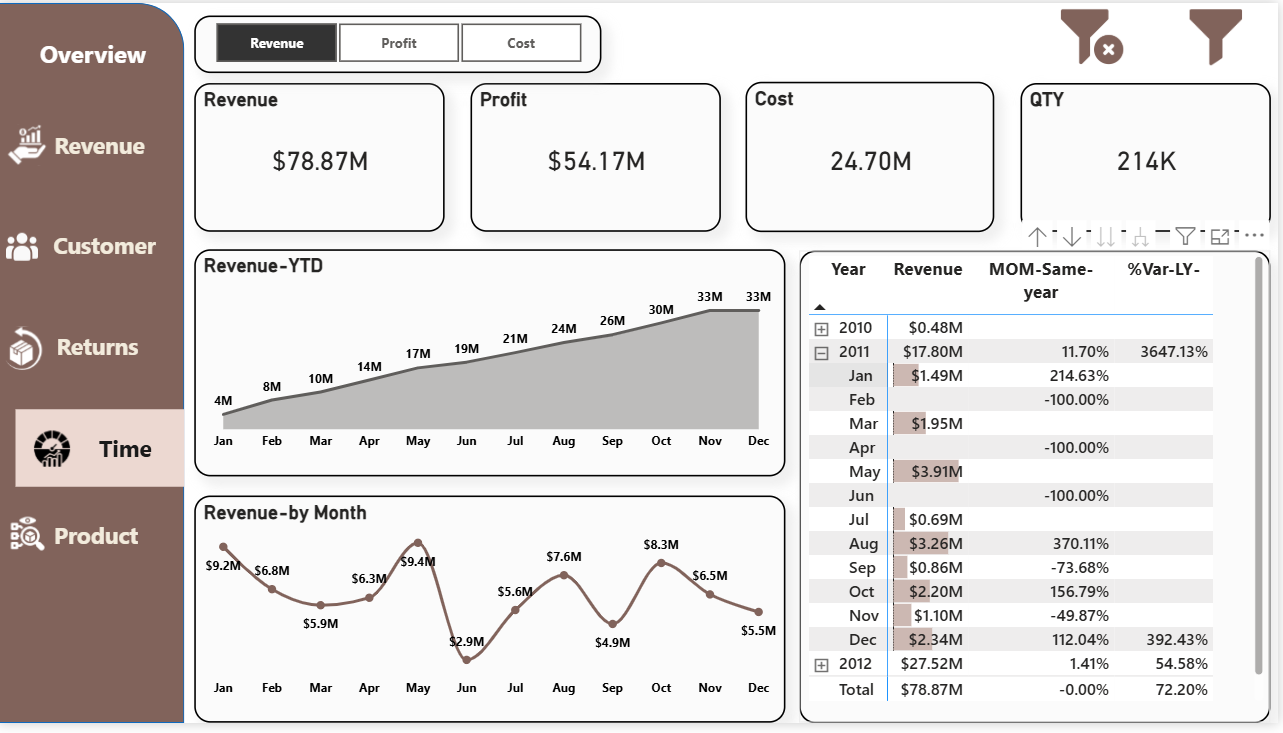

What the dashboard file says about the page in this screenshot:
{"tool":"powerbi","page":{"name":"Time Analysis","canvas":[1280,720],"ordinal":4},"visuals":[{"type":"card","title":"Cost","fields":{"Values":["Calculation.Cost"]},"box":[747.5,78.8,248.8,150],"z":0},{"type":"card","title":"Profit","fields":{"Values":["Calculation.Profit"]},"box":[472.5,80,250,148.8],"z":1000},{"type":"card","title":"Revenue","fields":{"Values":["Calculation.Revenue"]},"box":[196.2,80,250,148.8],"z":2000},{"type":"card","fields":{"Values":["Calculation.Var LY Rev Card"]},"box":[196.2,177.5,192.5,52.5],"z":3000},{"type":"card","fields":{"Values":["Calculation.Arrow Rev"]},"box":[402.5,181.2,43.8,50],"z":4000},{"type":"lineChart","fields":{"Y":["Calculation.Revenue"],"Category":["Calender.Month_Name"]},"box":[196.2,492.5,591.2,227.5],"z":5000},{"type":"lineChart","fields":{"Category":["Calender.Month_Name"],"Y":["Time Analysis.YTD"]},"box":[196.2,246.2,591.2,227.5],"z":6000},{"type":"card","fields":{"Values":["Calculation.Var LY Profit Card"]},"box":[481.2,178.8,192.5,47.5],"z":7000},{"type":"card","fields":{"Values":["Calculation.Arrow Profit"]},"box":[673.8,178.8,53.8,50],"z":8000},{"type":"card","fields":{"Values":["Calculation.Var Ly Cost Card"]},"box":[760,178.8,183.8,50],"z":9000},{"type":"card","fields":{"Values":["Calculation.Arrow Cost"]},"box":[957.5,180,42.5,50],"z":10000},{"type":"card","title":"QTY","fields":{"Values":["Calculation.QTY"]},"box":[1022.5,80,250,148.8],"z":11000},{"type":"card","fields":{"Values":["Calculation.Var Ly QTY Card"]},"box":[1022.5,177.5,183.8,50],"z":12000},{"type":"card","fields":{"Values":["Calculation.Arrow QTY"]},"box":[1220,178.8,42.5,50],"z":13000},{"type":"pivotTable","fields":{"Values":["Calculation.Revenue","Time Analysis.MOM-Table","Time Analysis.%Var-LY-Table"],"Rows":["Calender.Year","Calender.Month_Name"]},"box":[801.4,247.1,471.4,472.9],"z":14000},{"type":"slicer","fields":{"Values":["Time Analysis-parameter.Parameter"]},"box":[196.2,12.5,407.5,57.5],"z":15000},{"type":"image","box":[1032.9,2.5,123.5,62.4],"z":16000},{"type":"image","box":[1156.5,6.4,123.5,56],"z":17000},{"type":"shape","box":[0,0,186.2,720],"z":19000},{"type":"actionButton","box":[1.2,105,186.2,72.5],"z":20000},{"type":"actionButton","box":[1.2,202.1,185,77.5],"z":21000},{"type":"actionButton","box":[0,223.8,47.5,40],"z":22000},{"type":"actionButton","box":[2.5,304.2,185,77.5],"z":23000},{"type":"actionButton","box":[17.5,406.2,168.8,77.5],"z":24000},{"type":"actionButton","box":[0,492.5,186.2,77.5],"z":25000},{"type":"actionButton","box":[12.5,0,165,100],"z":26000},{"type":"actionButton","box":[1.2,117.5,55,48.8],"z":27000},{"type":"actionButton","box":[23.8,422.5,60,46.2],"z":28000},{"type":"actionButton","box":[5,507.5,50,46.2],"z":29000},{"type":"actionButton","box":[0,311.2,51.2,62.5],"z":30000}]}

Visuals, with their boxes on the page's 1280x720 design canvas (x1, y1, x2, y2). These are canvas units, not pixel positions in the 1283x733 screenshot, which may show the page scaled, cropped or inside an application window:
"Cost" card: 748 79 996 229
"Profit" card: 472 80 722 229
"Revenue" card: 196 80 446 229
card - Calculation.Var LY Rev Card: 196 178 389 230
card - Calculation.Arrow Rev: 402 181 446 231
lineChart - Calculation.Revenue x Calender.Month_Name: 196 492 787 720
lineChart - Calender.Month_Name x Time Analysis.YTD: 196 246 787 474
card - Calculation.Var LY Profit Card: 481 179 674 226
card - Calculation.Arrow Profit: 674 179 728 229
card - Calculation.Var Ly Cost Card: 760 179 944 229
card - Calculation.Arrow Cost: 958 180 1000 230
"QTY" card: 1022 80 1272 229
card - Calculation.Var Ly QTY Card: 1022 178 1206 228
card - Calculation.Arrow QTY: 1220 179 1262 229
pivotTable - Calculation.Revenue x Time Analysis.MOM-Table: 801 247 1273 720
slicer - Time Analysis-parameter.Parameter: 196 12 604 70
image: 1033 2 1156 65
image: 1156 6 1280 62
shape: 0 0 186 720
actionButton: 1 105 187 178
actionButton: 1 202 186 280
actionButton: 0 224 48 264
actionButton: 2 304 188 382
actionButton: 18 406 186 484
actionButton: 0 492 186 570
actionButton: 12 0 178 100
actionButton: 1 118 56 166
actionButton: 24 422 84 469
actionButton: 5 508 55 554
actionButton: 0 311 51 374
